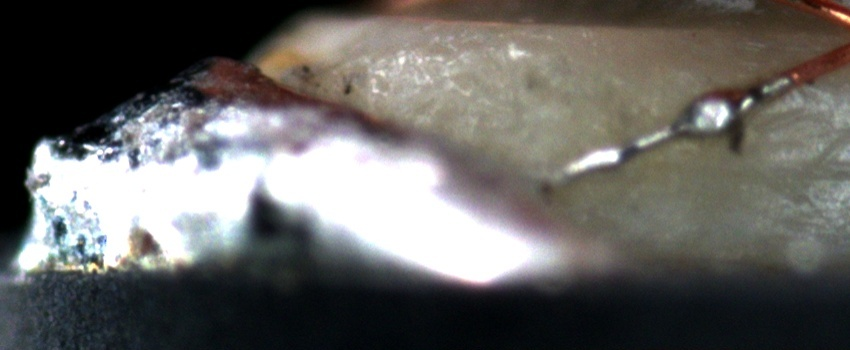DL: (738, 146, 850, 199), (748, 92, 850, 125)
TB: (681, 82, 755, 138)
TS: (562, 75, 791, 180)
TTCW: (531, 48, 840, 204)
